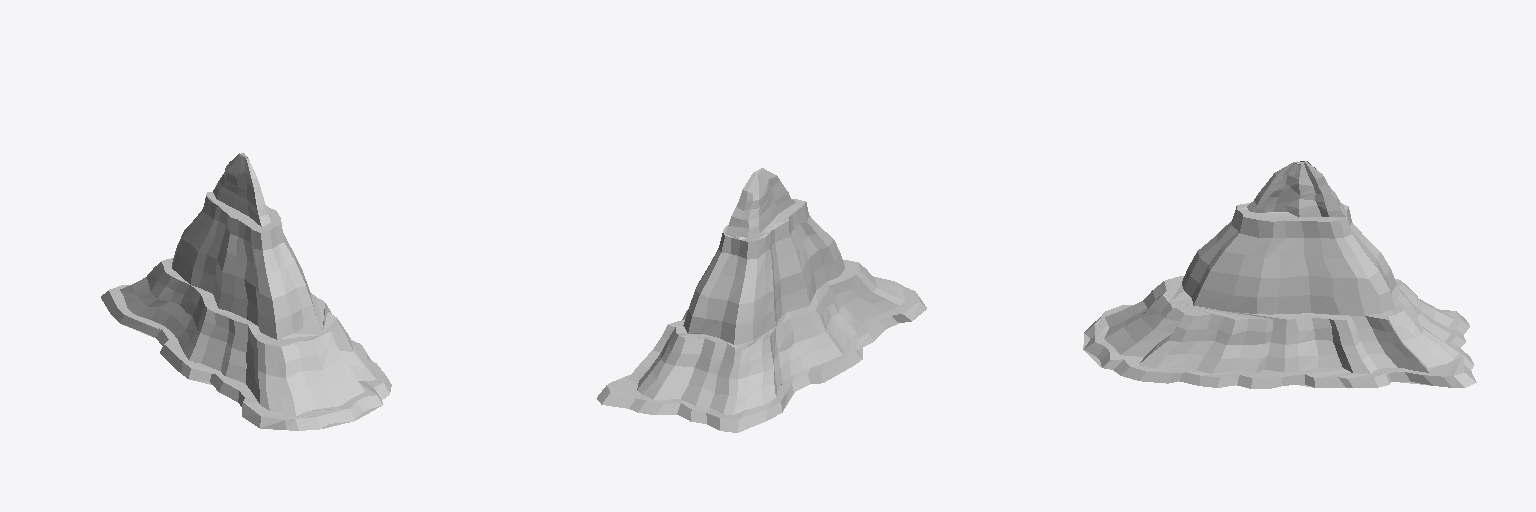
The model's file is Mountain.obj.
3 renders of one model, left to right at view 1: azimuth 30°, elevation 25°; view 2: azimuth 150°, elevation 25°; view 3: azimuth 270°, elevation 25°, orthographic.
Visible parts, largest first — view 1: MountainTest2_Plane.004; view 2: MountainTest2_Plane.004; view 3: MountainTest2_Plane.004.
Part boxes in pixels (x1,y1,x2,y2): MountainTest2_Plane.004: (101,153,391,430); MountainTest2_Plane.004: (597,168,926,432); MountainTest2_Plane.004: (1083,161,1476,388).
Size of the model in its own units: 133 by 148 by 280.